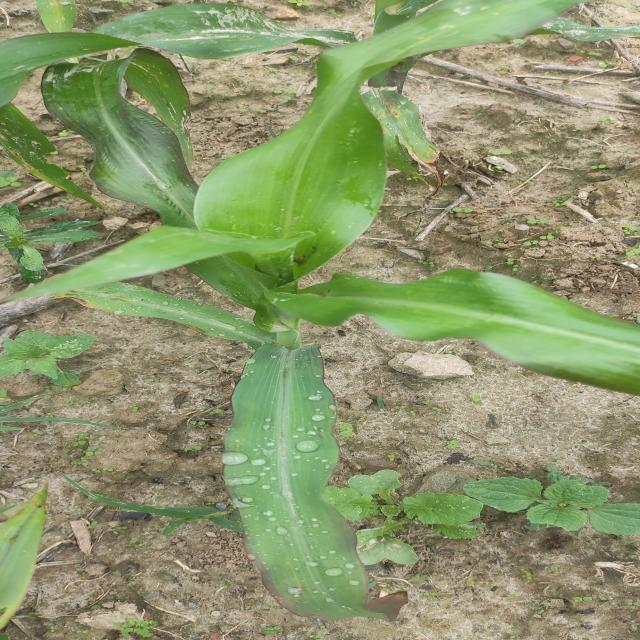maize: (7, 19, 640, 320), (187, 320, 361, 614)
weed: (357, 462, 640, 557), (0, 326, 135, 390)
